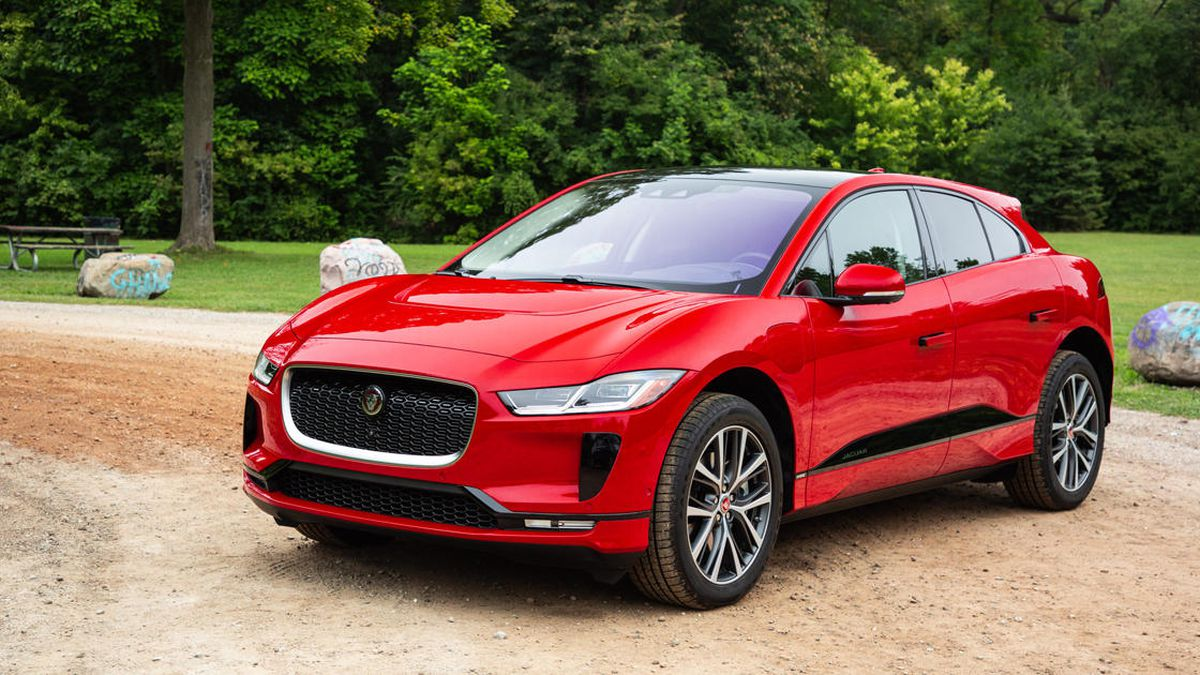car: (241, 168, 1113, 611)
